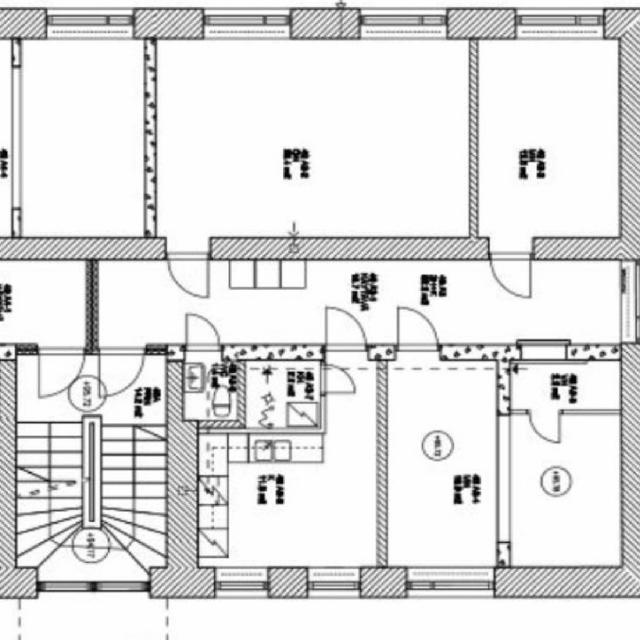door: (99, 348, 143, 396), (398, 306, 438, 352), (168, 252, 208, 298), (490, 253, 530, 298), (326, 306, 365, 352), (186, 313, 218, 351), (528, 409, 560, 444), (320, 365, 354, 392)
